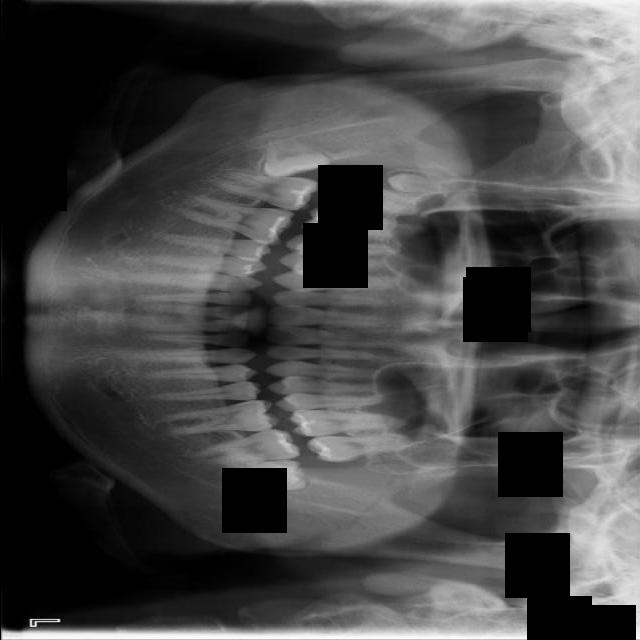3M ESPE Implant: (386, 173, 448, 195)
52: (243, 208, 294, 246), (321, 177, 381, 209), (299, 206, 359, 238), (245, 428, 302, 461), (267, 177, 320, 211), (287, 409, 337, 437), (305, 436, 353, 462), (226, 256, 267, 279), (231, 239, 271, 262)
73: (42, 615, 62, 618)
BioHorizons Implant: (305, 432, 426, 463)
Biomet 3i Implant: (226, 458, 306, 492)
Blue Sky Bio Implant: (194, 426, 302, 467)
Caries: (320, 175, 429, 218)
Implant: (206, 168, 321, 214)
Keystone Dental Implant: (257, 130, 331, 182)
